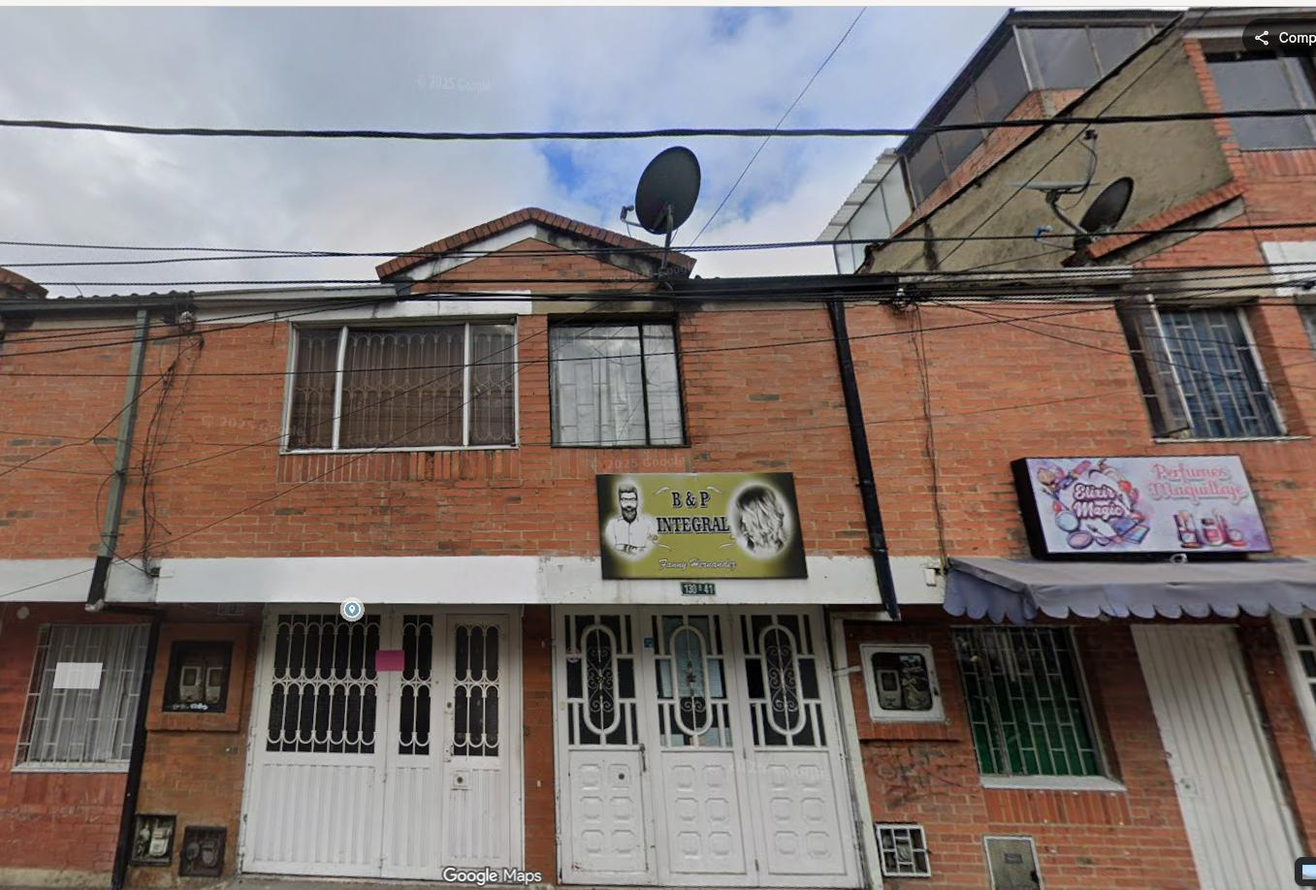casa: (97, 205, 537, 889), (540, 218, 969, 889)
